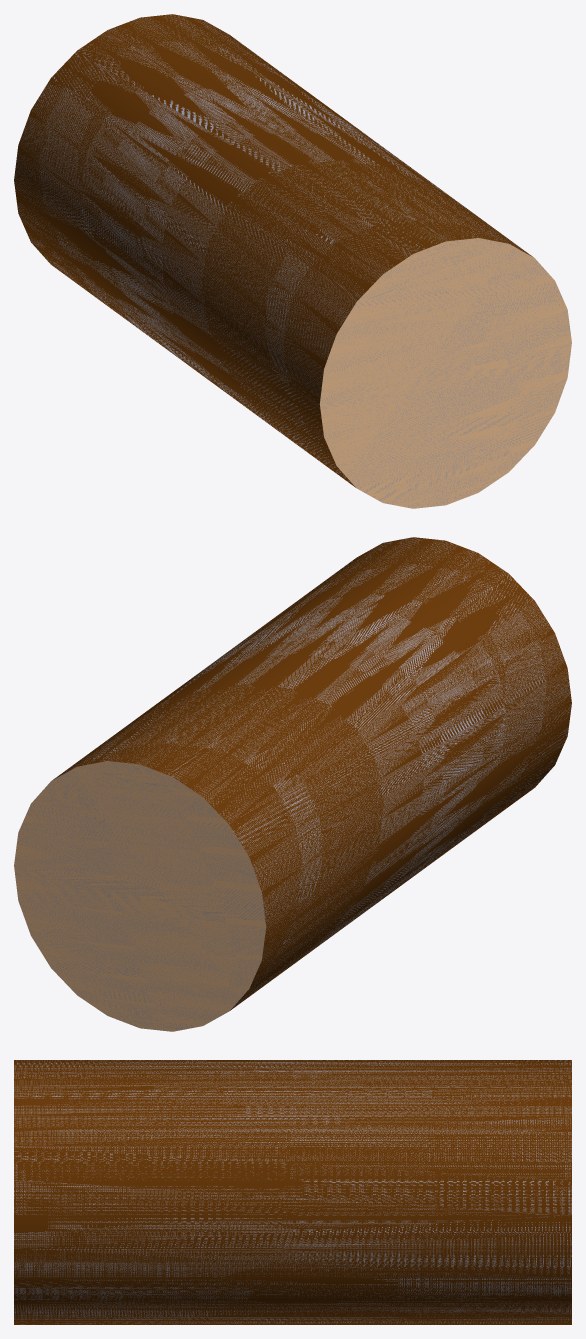
File: Log.dae
3 views of the same model, one above another, from view 1: azimuth 30°, elevation 25°; view 2: azimuth 150°, elevation 25°; view 3: azimuth 270°, elevation 25° (orthographic). The views are drawn at different scales.
Parts seen in each view (by area): view 1: SketchUp (×2); view 2: SketchUp (×2); view 3: SketchUp.
Part boxes in pixels (left/top/right/bottom): SketchUp (×2): left=14, top=14, right=571, bottom=508; SketchUp (×2): left=14, top=537, right=571, bottom=1031; SketchUp: left=14, top=1060, right=571, bottom=1324.
Bounding box in the file's own units: 12 × 25.2 × 12.
